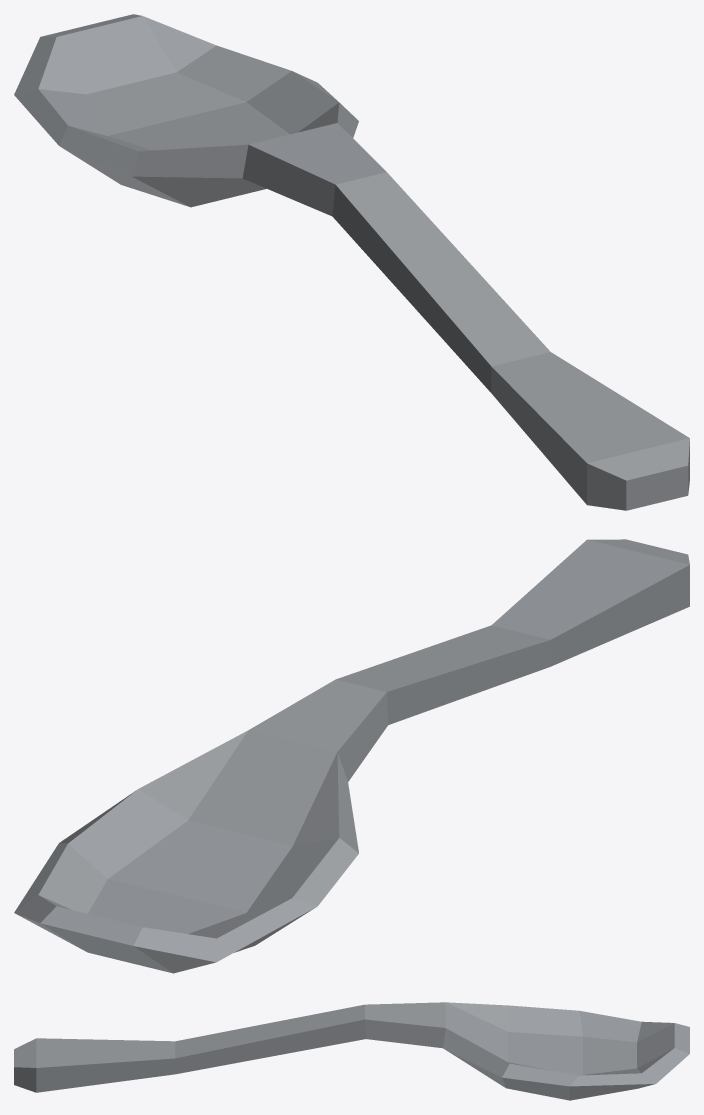
File: SM_Item_Cutlery_Spoon_01.fbx
3 renders of one model, top to bottom at view 1: azimuth 30°, elevation 25°; view 2: azimuth 150°, elevation 25°; view 3: azimuth 270°, elevation 25°, orthographic. The views are drawn at different scales.
Parts seen in each view (by area): view 1: SM_Item_Cutlery_Spoon_01; view 2: SM_Item_Cutlery_Spoon_01; view 3: SM_Item_Cutlery_Spoon_01.
Part boxes in pixels (x1=…): SM_Item_Cutlery_Spoon_01: x1=14, y1=14, x2=689, y2=510; SM_Item_Cutlery_Spoon_01: x1=14, y1=539, x2=689, y2=973; SM_Item_Cutlery_Spoon_01: x1=14, y1=1002, x2=689, y2=1100.
Size of the model in its own units: 8.67 by 3.74 by 33.1.
